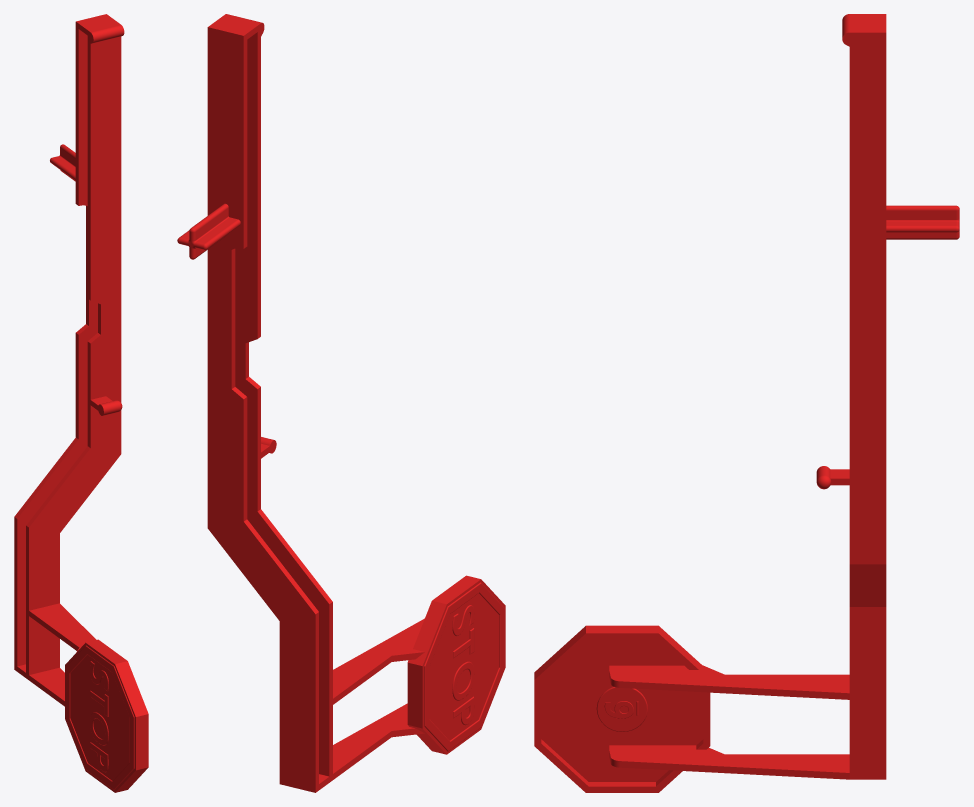
Rendered from PART 6 STOP SIGN.fbx.
The picture shows the model from 3 angles, left to right: view 1: azimuth 30°, elevation 25°; view 2: azimuth 150°, elevation 25°; view 3: azimuth 270°, elevation 25°; orthographic projection. The views are drawn at different scales.
Parts seen in each view (by area): view 1: PART 6 STOP SIGN; view 2: PART 6 STOP SIGN; view 3: PART 6 STOP SIGN.
Part boxes in pixels (x1,y1,x2,y2): PART 6 STOP SIGN: (14, 14, 148, 792); PART 6 STOP SIGN: (177, 14, 505, 792); PART 6 STOP SIGN: (534, 14, 959, 792).
Size of the model in its own units: 3.52 by 19.61 by 9.21.
